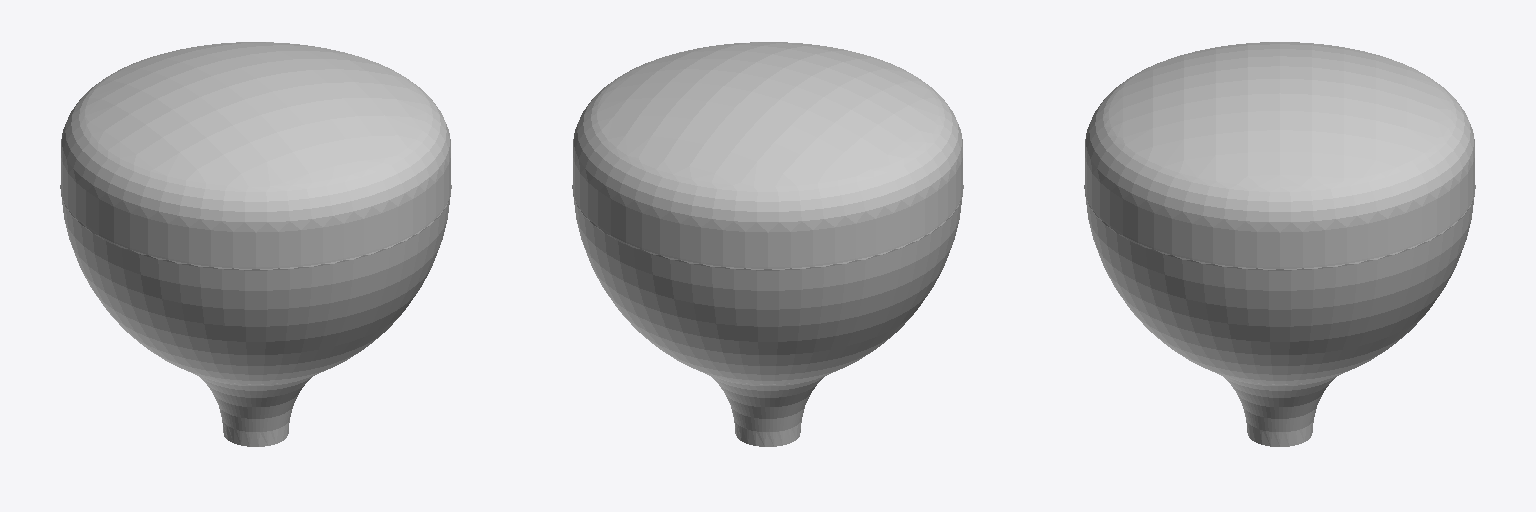
File: Рукоятка.obj
3 views of the same model, side by side, from view 1: azimuth 30°, elevation 25°; view 2: azimuth 150°, elevation 25°; view 3: azimuth 270°, elevation 25° (orthographic).
Parts seen in each view (by area): view 1: Твердое тело1; view 2: Твердое тело1; view 3: Твердое тело1.
Boxes of the visible parts, <box> form: Твердое тело1: <box>60,42,451,446</box>; Твердое тело1: <box>572,42,963,446</box>; Твердое тело1: <box>1084,42,1475,446</box>.
Bounding box in the file's own units: 90 × 90 × 89.93.